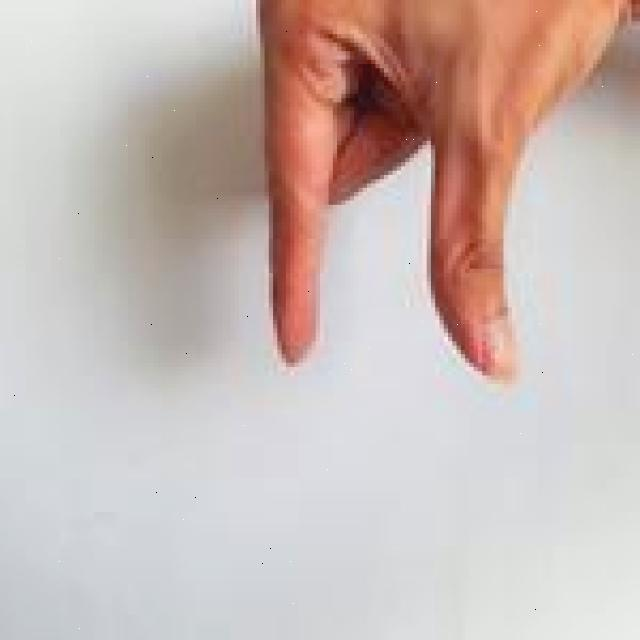Q: (231, 0, 624, 397)
